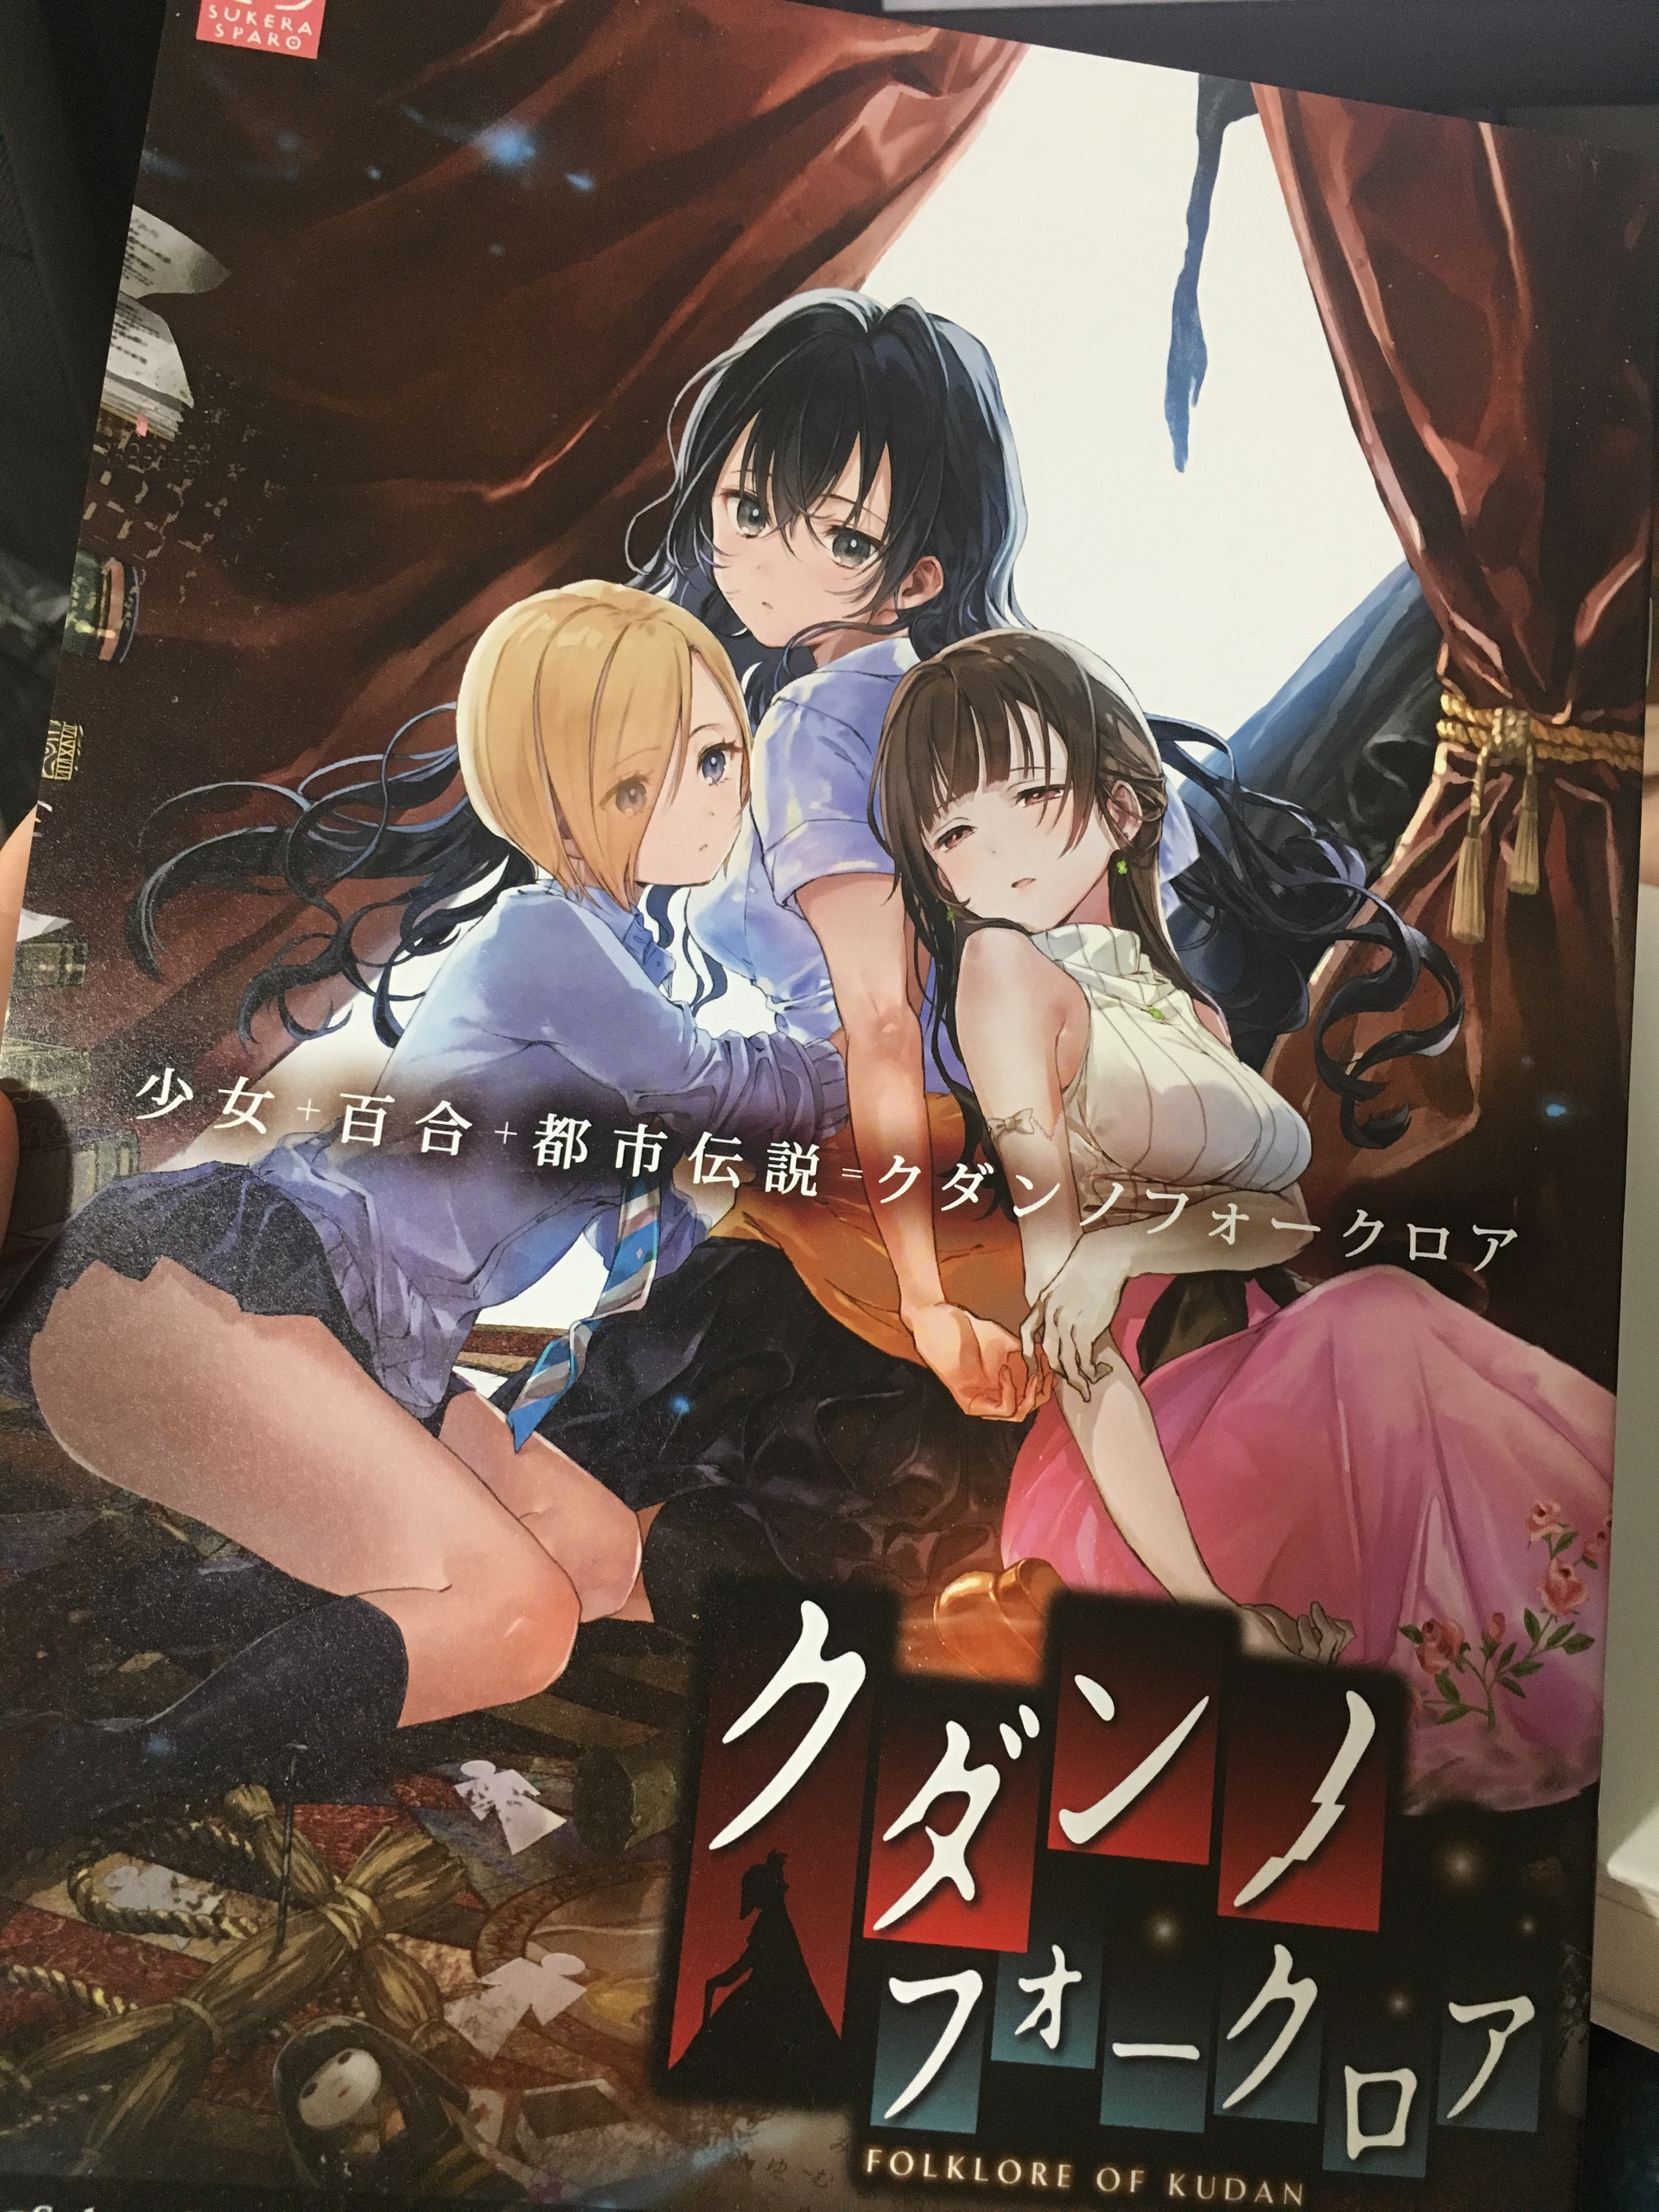纸片人正脸: (656, 289, 998, 675), (451, 582, 753, 888), (871, 628, 1162, 928)
